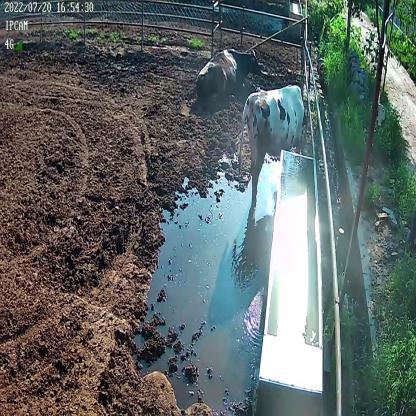cow: (236, 81, 308, 219), (198, 48, 261, 104)
